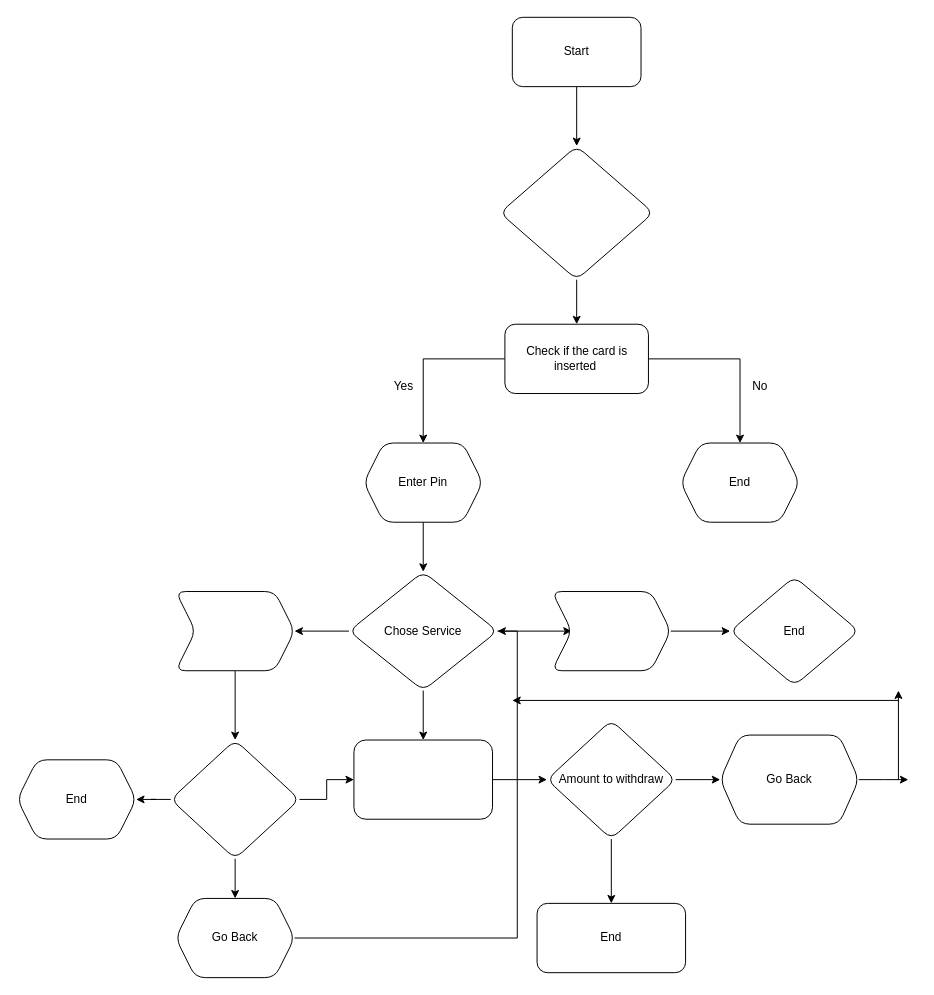
Some shapes in this 934 by 995 pixel diagram are drawn without their labels. The shapes that lost their labels are listed below. From the top down, each one's centre as x and y in pixels, then its label:
At pixel 576 212: "Insert Card".
At pixel 235 631: "Check Balance".
At pixel 611 631: "Exit".
At pixel 234 799: "Balance Shown".
At pixel 423 779: "Withdraw money".
